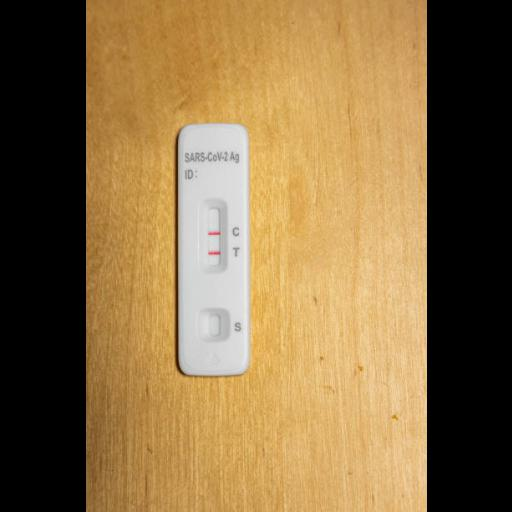Pos: (177, 126, 247, 374)
